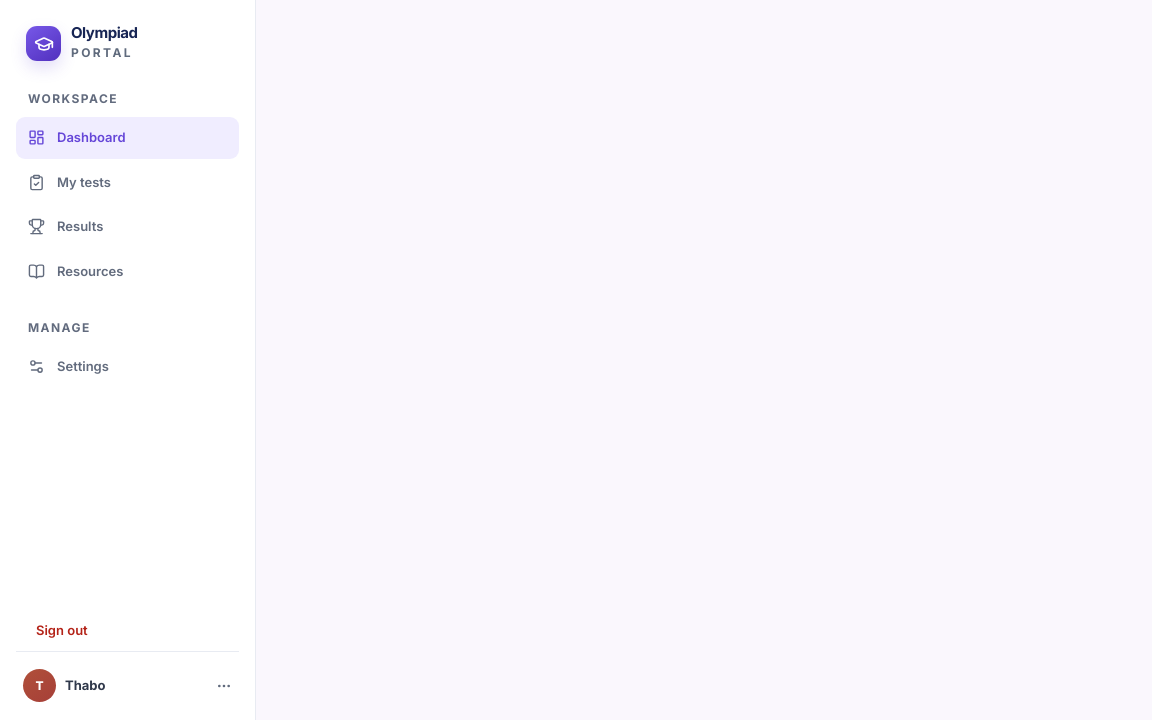
it: StudentSidebar › opens the delete dialog when the delete button is clicked
The image size is (1152, 720).
Click the button "Settings": (128, 367) [16,346,239,388]
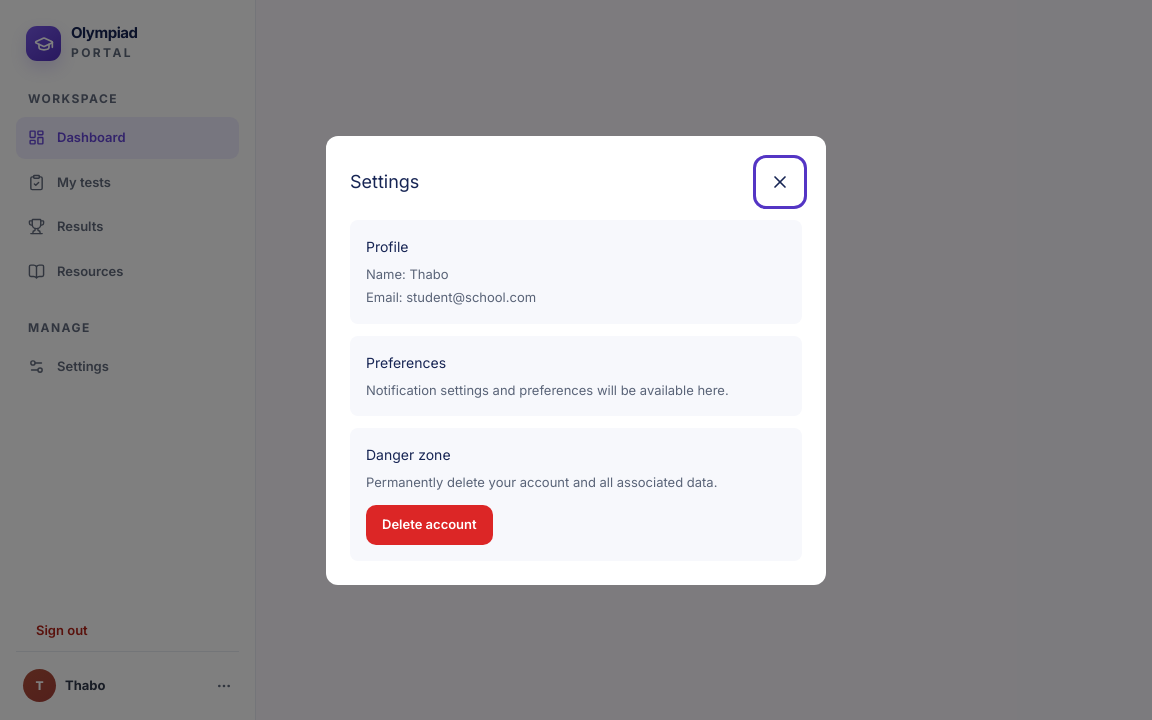
Now the dialog "Settings" is shown, box [326,136,826,584]
Click the button "Delete account": (429, 524) [366,504,493,544]
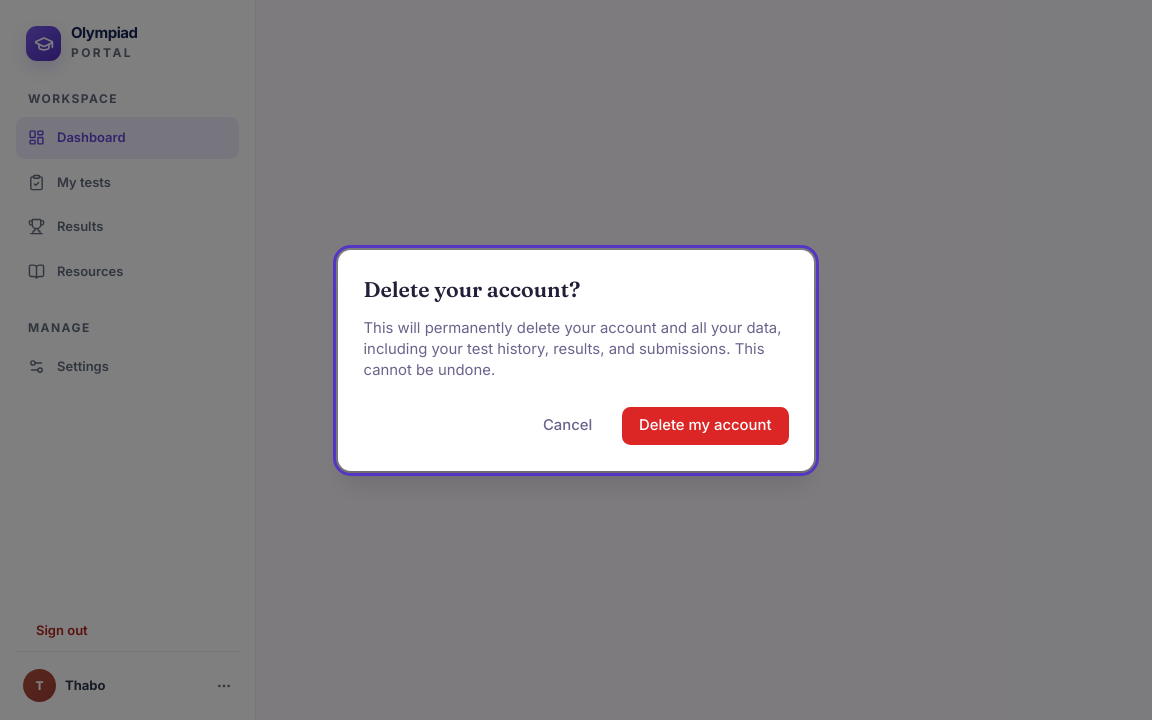
Now the heading "Delete your account?" is shown, box [364,276,580,302]
Now the button "Delete my account" is shown, box [622,407,788,445]
